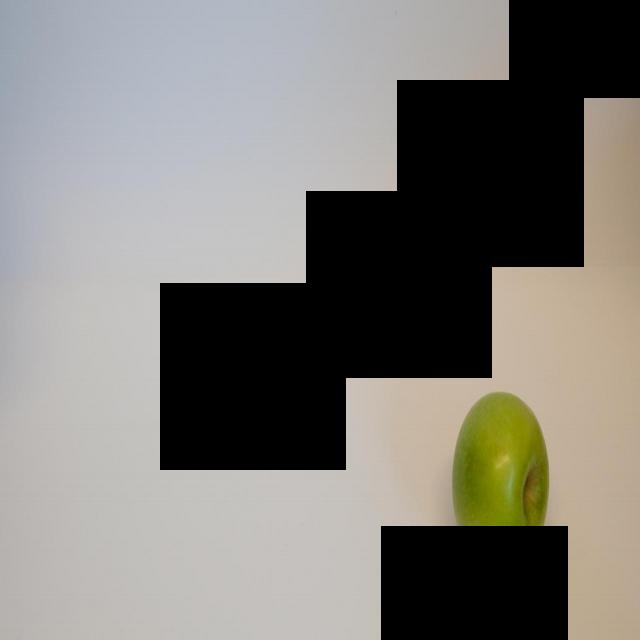apple: (442, 388, 567, 589)
